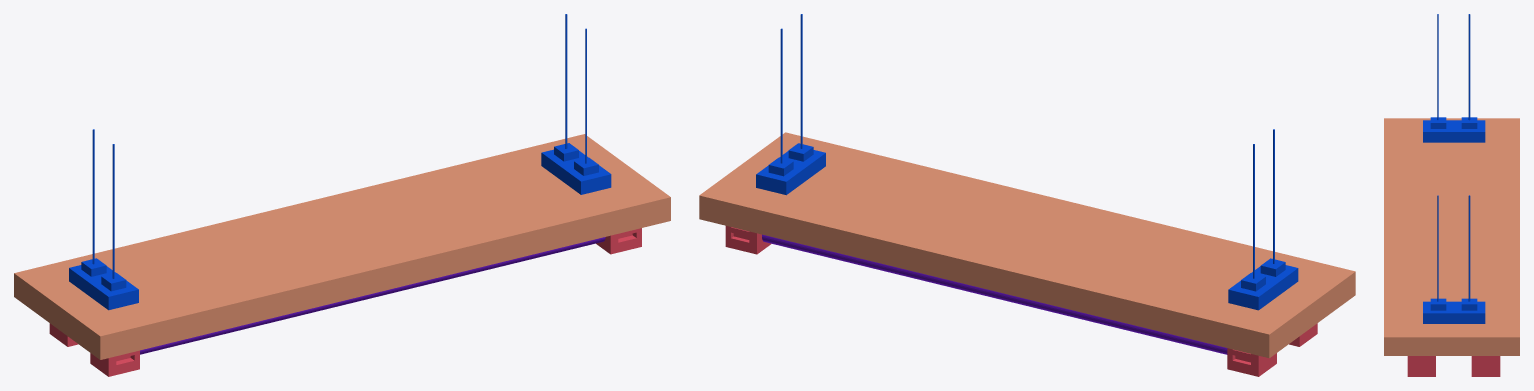
File: Light.fbx
3 views of the same model, side by side, from view 1: azimuth 30°, elevation 25°; view 2: azimuth 150°, elevation 25°; view 3: azimuth 270°, elevation 25° (orthographic). The views are drawn at different scales.
Visible parts, largest first — view 1: Cube, Cube.005, Cylinder.001, Cube.001; view 2: Cube, Cube.005, Cylinder.001, Cube.001; view 3: Cube, Cube.005, Cube.001.
Boxes of the visible parts, left/top/right/bottom form: Cube: left=14, top=134, right=670, bottom=359; Cube.005: left=69, top=14, right=611, bottom=310; Cylinder.001: left=140, top=237, right=605, bottom=354; Cube.001: left=49, top=228, right=641, bottom=376; Cube: left=699, top=132, right=1355, bottom=358; Cube.005: left=756, top=14, right=1298, bottom=310; Cylinder.001: left=762, top=234, right=1227, bottom=354; Cube.001: left=725, top=226, right=1317, bottom=376; Cube: left=1384, top=118, right=1519, bottom=355; Cube.005: left=1423, top=14, right=1485, bottom=323; Cube.001: left=1407, top=356, right=1500, bottom=376.
Bounding box in the file's own units: 1290 × 459 × 338.
